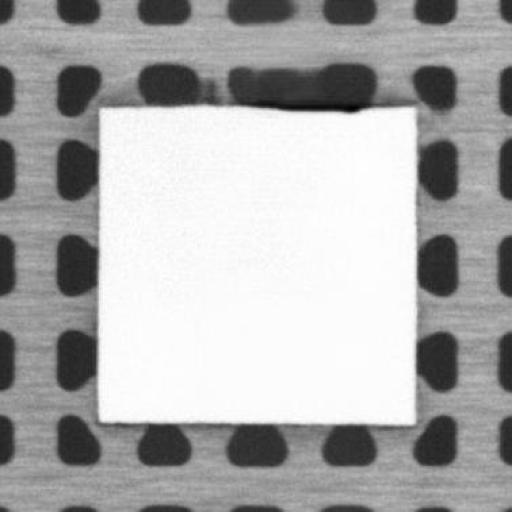DIE_BROKEN: (242, 96, 368, 113)
